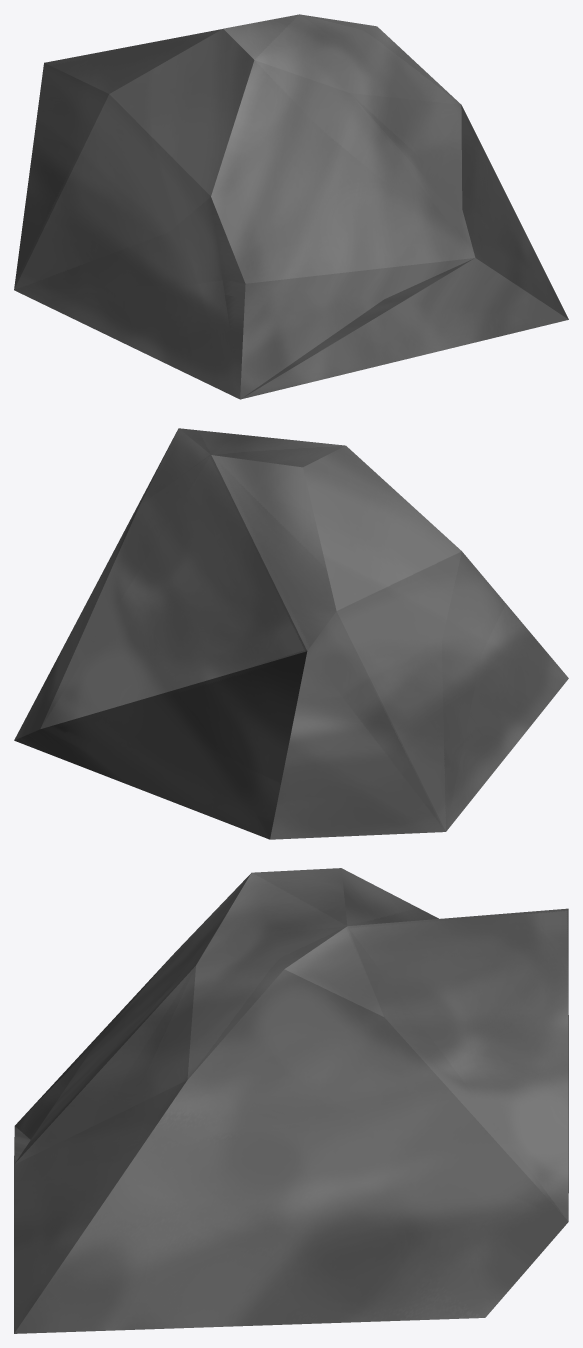
File: sten._..fbx
3 renders of one model, top to bottom at view 1: azimuth 30°, elevation 25°; view 2: azimuth 150°, elevation 25°; view 3: azimuth 270°, elevation 25°, orthographic. The views are drawn at different scales.
Parts seen in each view (by area): view 1: Cube; view 2: Cube; view 3: Cube.
Part boxes in pixels (box(x1,y1,x2,y2)): Cube: box(14, 14, 568, 399); Cube: box(14, 428, 568, 839); Cube: box(14, 868, 568, 1333).
Size of the model in its own units: 3.28 by 2.04 by 3.14.
1 material, 1 textured.
